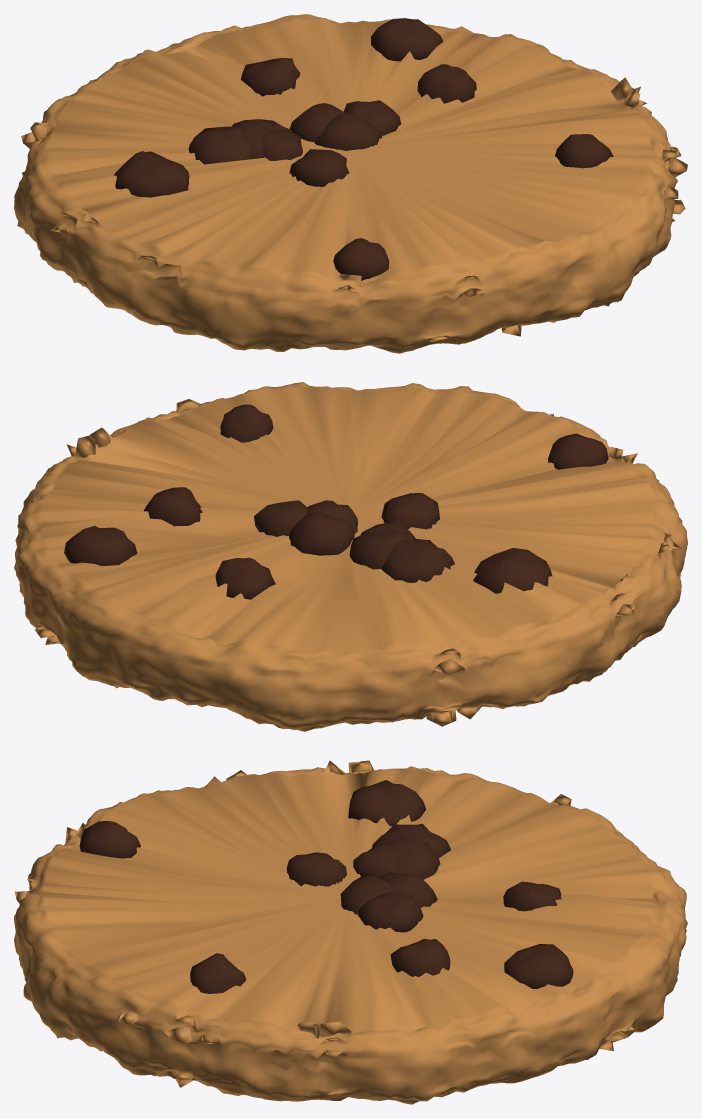
The model's file is items-cookie.glb.
The picture shows the model from 3 angles, top to bottom: view 1: azimuth 30°, elevation 25°; view 2: azimuth 150°, elevation 25°; view 3: azimuth 270°, elevation 25°; orthographic projection.
Visible parts, largest first — view 1: Cookie__Dough, Cookie__Chips; view 2: Cookie__Dough, Cookie__Chips; view 3: Cookie__Dough, Cookie__Chips.
Part boxes in pixels (left/top/right/bottom): Cookie__Dough: left=14, top=14, right=687, bottom=353; Cookie__Chips: left=114, top=18, right=613, bottom=280; Cookie__Dough: left=14, top=382, right=687, bottom=731; Cookie__Chips: left=64, top=404, right=608, bottom=599; Cookie__Dough: left=14, top=760, right=687, bottom=1104; Cookie__Chips: left=79, top=780, right=573, bottom=993.
Bounding box in the file's own units: 11.35 × 1.95 × 11.27.
